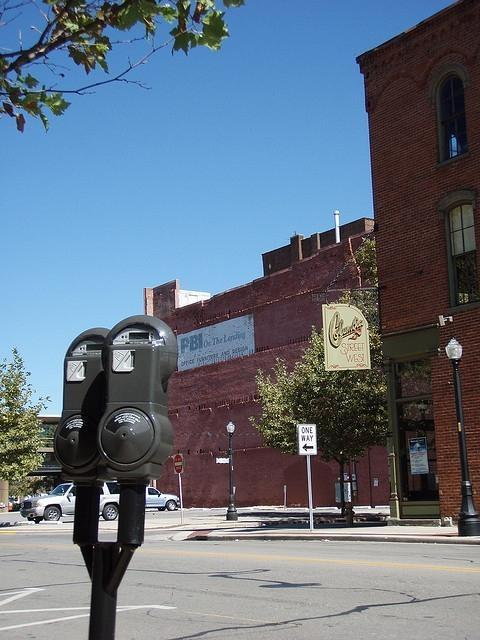car: (20, 482, 120, 524), (146, 488, 178, 512)
